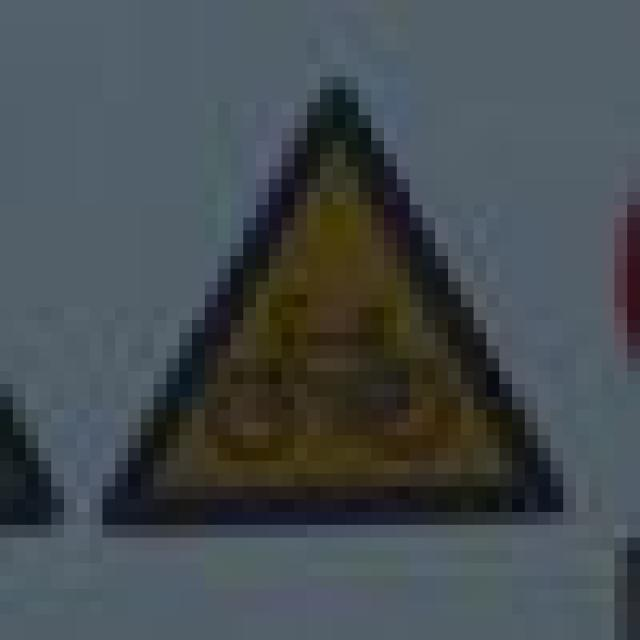cycle_crossing: (77, 77, 550, 512)
